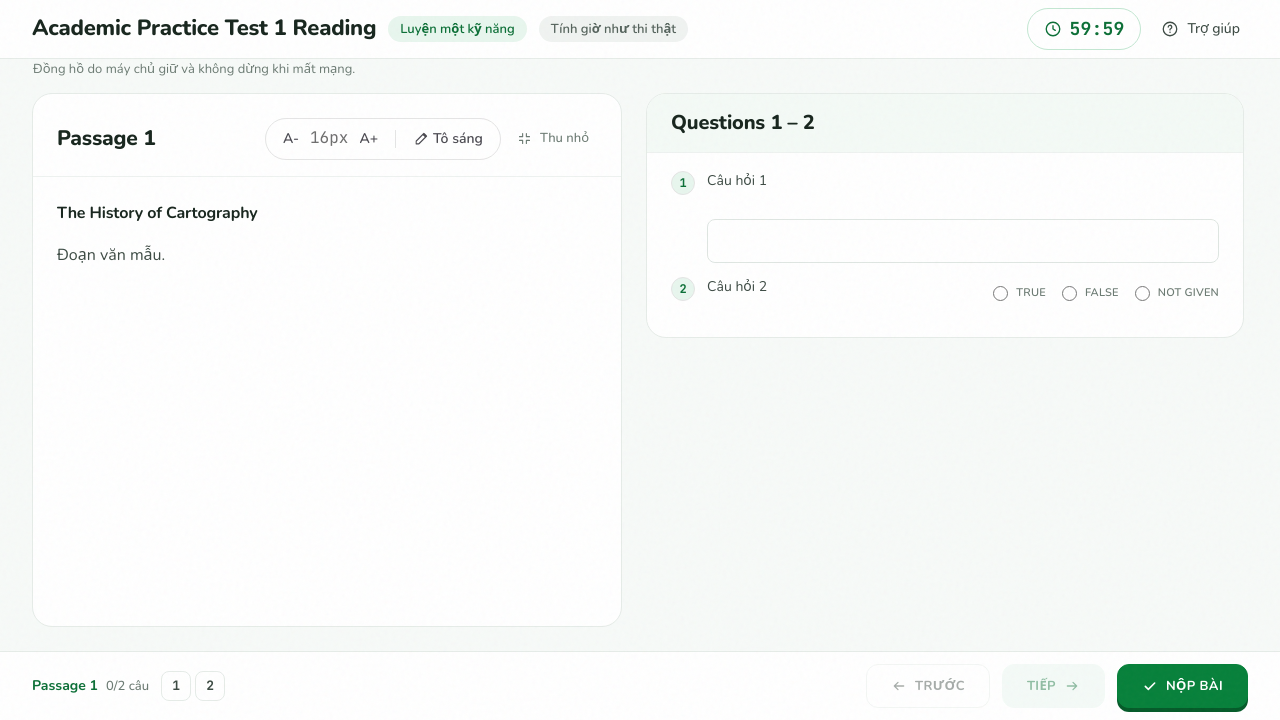
Test: reports a failed submission out loud, not through the autosave chip
Expected: the heading "The History of Cartography" is shown, [57, 202, 258, 224]
Click the button "NỘP BÀI".
click(1182, 686)  # box [1117, 664, 1248, 708]
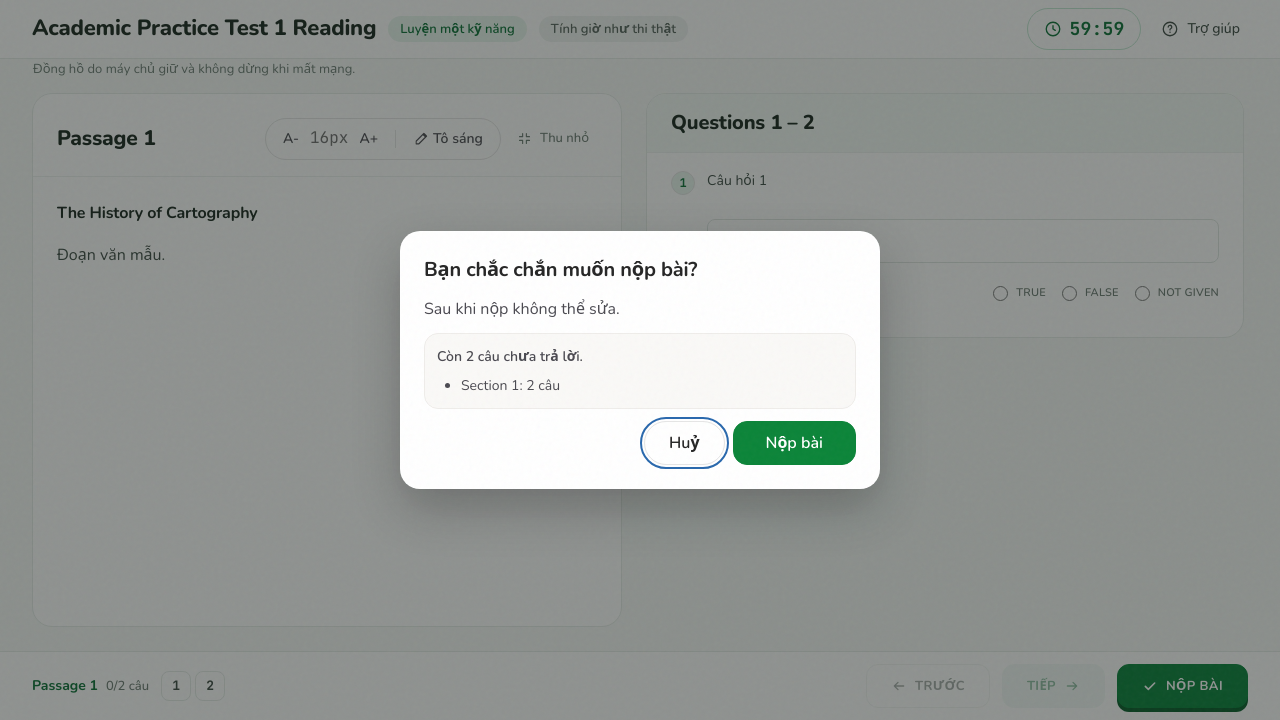
Click the button "Nộp bài".
click(794, 443)  # box [733, 421, 856, 465]
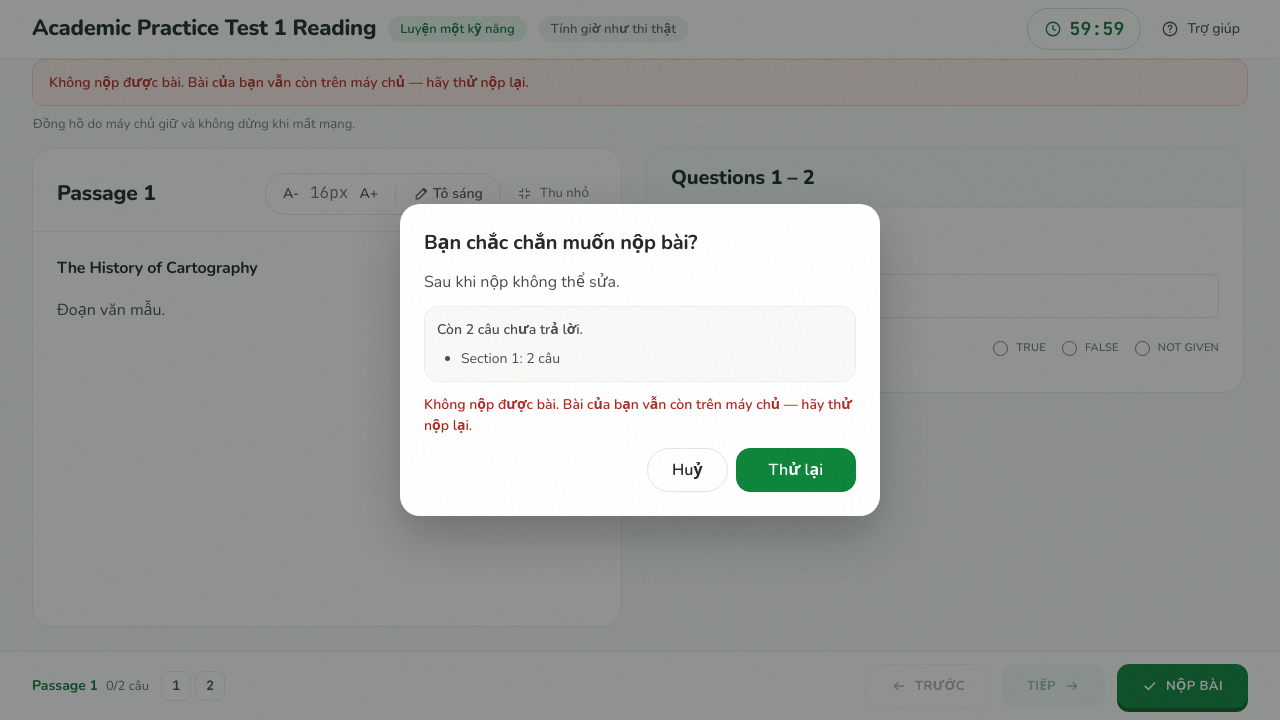
Expected: the button "Thử lại" is enabled, [736, 448, 856, 492]
Expected: the text "Không nộp được bài. Bài của bạn vẫn còn trên máy chủ — hãy thử nộp lại." is shown, [424, 394, 856, 436]
